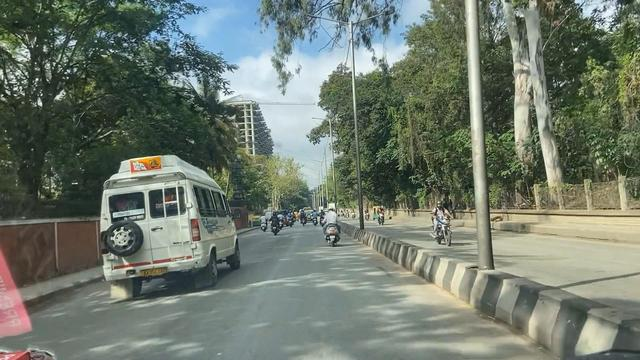HMV: (101, 161, 201, 298)
LMV: (323, 196, 340, 248), (269, 209, 279, 234)
